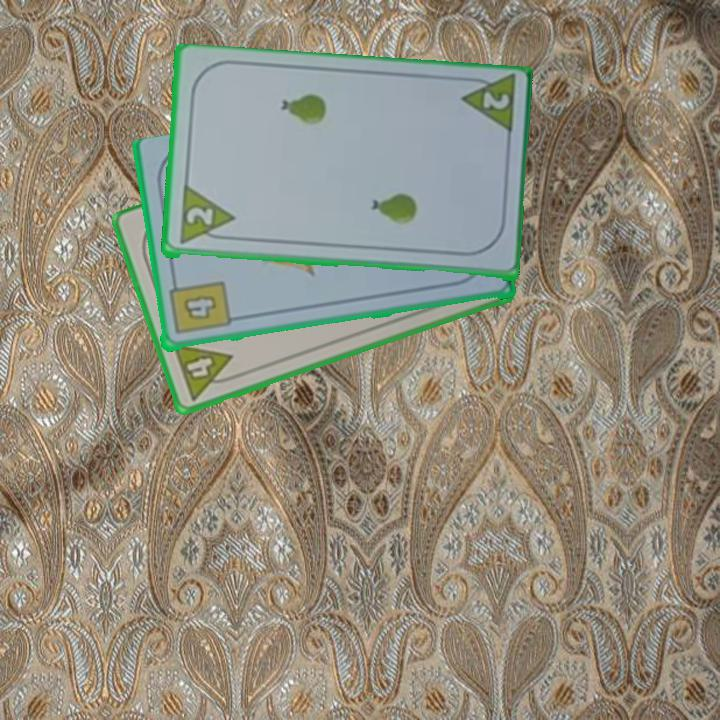2p: (175, 185, 237, 248), (478, 89, 512, 113)
4b: (165, 276, 232, 338)
4p: (169, 340, 242, 403)
